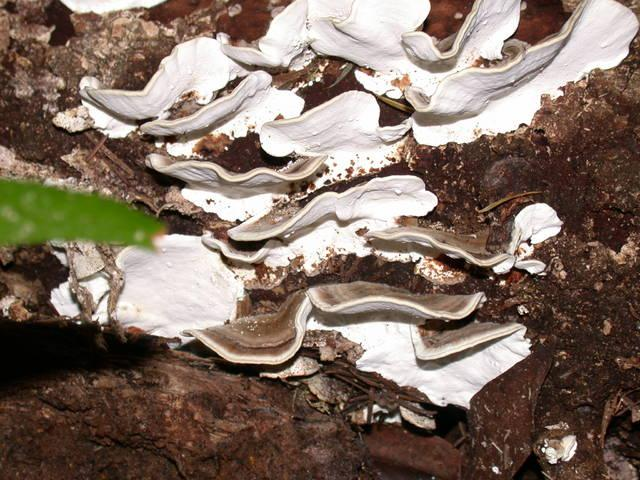Non-edible Mushroom: (12, 148, 560, 460), (233, 1, 640, 142), (78, 34, 271, 140)
